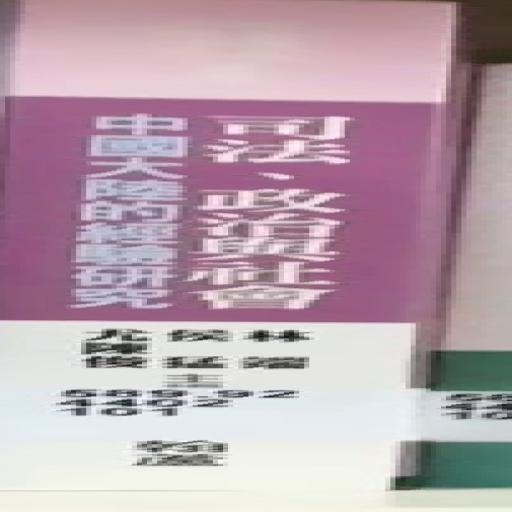book: (3, 1, 512, 512)
